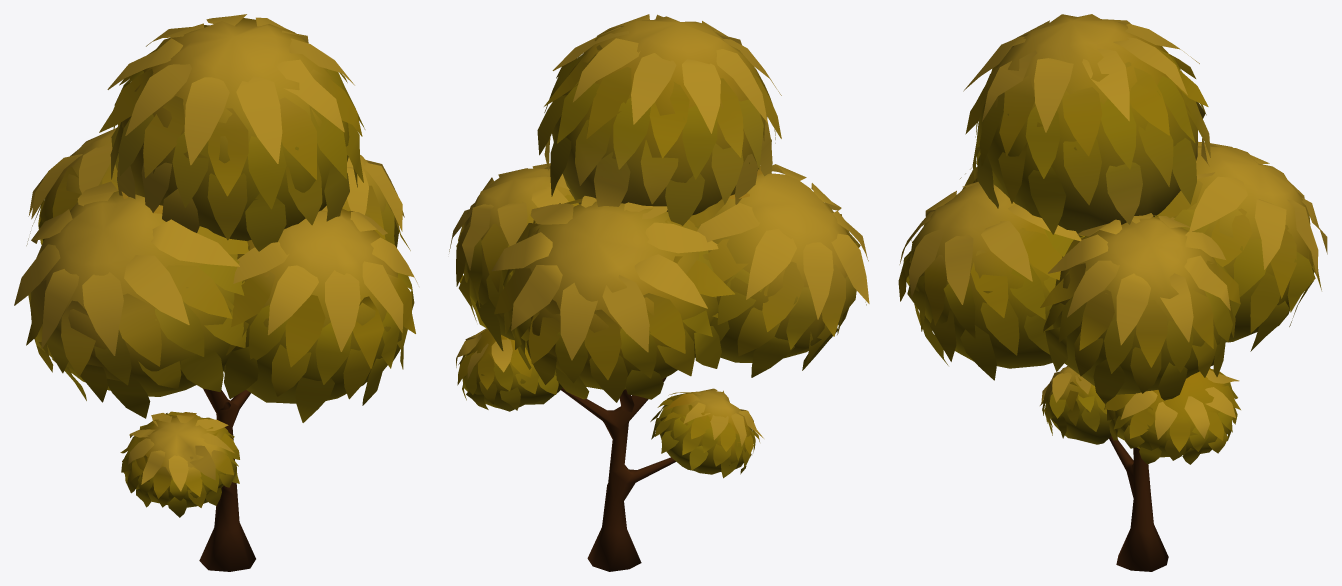
Rendered from Tree2.fbx.
3 renders of one model, left to right at view 1: azimuth 30°, elevation 25°; view 2: azimuth 150°, elevation 25°; view 3: azimuth 270°, elevation 25°, orthographic. The views are drawn at different scales.
Parts seen in each view (by area): view 1: Sphere.101, Sphere.001; view 2: Sphere.101, Sphere.001; view 3: Sphere.101, Sphere.001.
Part boxes in pixels (x1,y1,x2,y2): Sphere.101: [14, 14, 417, 517]; Sphere.001: [199, 388, 255, 571]; Sphere.101: [449, 14, 869, 478]; Sphere.001: [561, 377, 675, 571]; Sphere.101: [898, 14, 1327, 464]; Sphere.001: [1109, 436, 1168, 571].
Bounding box in the file's own units: 395 × 534 × 395.
